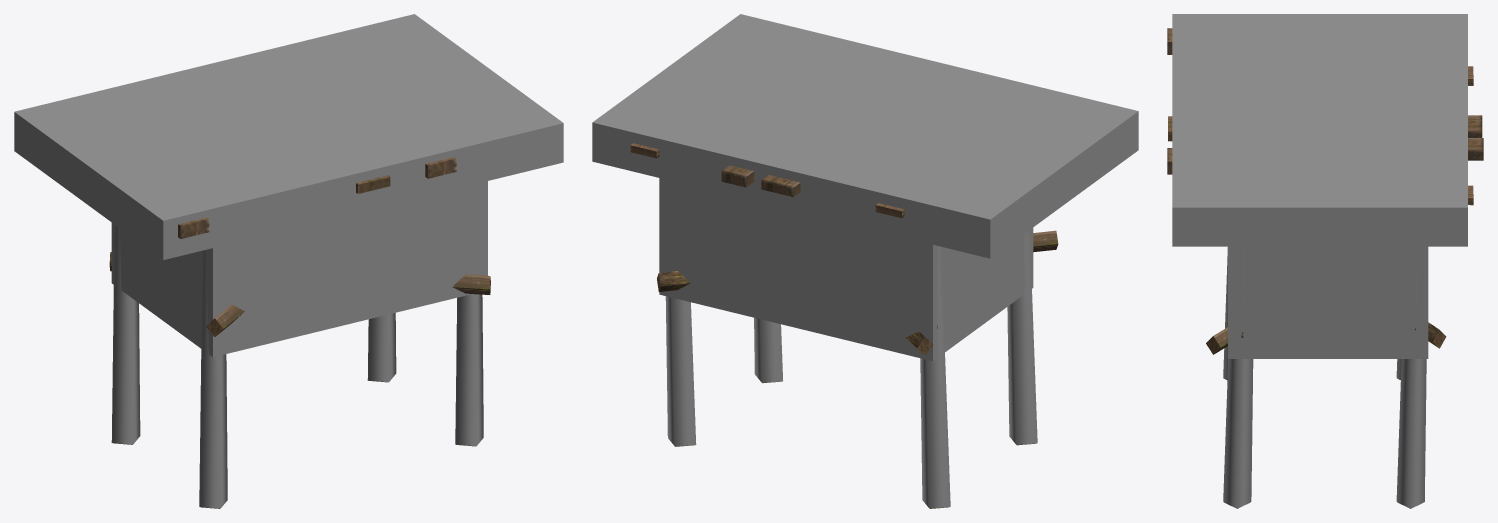
The model's file is Scene_Build_XuanWuShan_KuangShanQiao_2.FBX.
The picture shows the model from 3 angles, left to right: view 1: azimuth 30°, elevation 25°; view 2: azimuth 150°, elevation 25°; view 3: azimuth 270°, elevation 25°; orthographic projection.
Visible parts, largest first — view 1: Scene_Build_XuanWuShan_KuangShanQiao_2_Xzm, Scene_Build_XuanWuShan_KuangShanQiao_2; view 2: Scene_Build_XuanWuShan_KuangShanQiao_2_Xzm, Scene_Build_XuanWuShan_KuangShanQiao_2; view 3: Scene_Build_XuanWuShan_KuangShanQiao_2_Xzm, Scene_Build_XuanWuShan_KuangShanQiao_2.
Part boxes in pixels (box(x1,y1,x2,y2)): Scene_Build_XuanWuShan_KuangShanQiao_2_Xzm: box(14, 14, 563, 508); Scene_Build_XuanWuShan_KuangShanQiao_2: box(109, 157, 490, 508); Scene_Build_XuanWuShan_KuangShanQiao_2_Xzm: box(592, 14, 1138, 508); Scene_Build_XuanWuShan_KuangShanQiao_2: box(630, 143, 1058, 508); Scene_Build_XuanWuShan_KuangShanQiao_2_Xzm: box(1172, 14, 1467, 508); Scene_Build_XuanWuShan_KuangShanQiao_2: box(1167, 28, 1483, 508).
Bounding box in the file's own units: 574 × 449 × 396.
